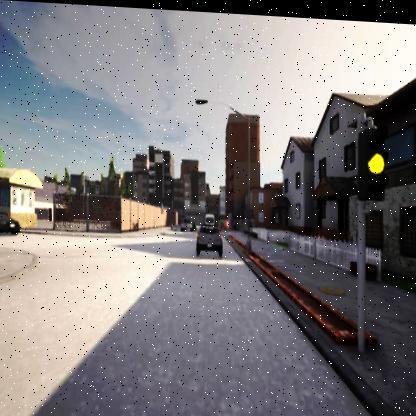vehicle: (196, 223, 223, 254), (0, 212, 20, 237)
